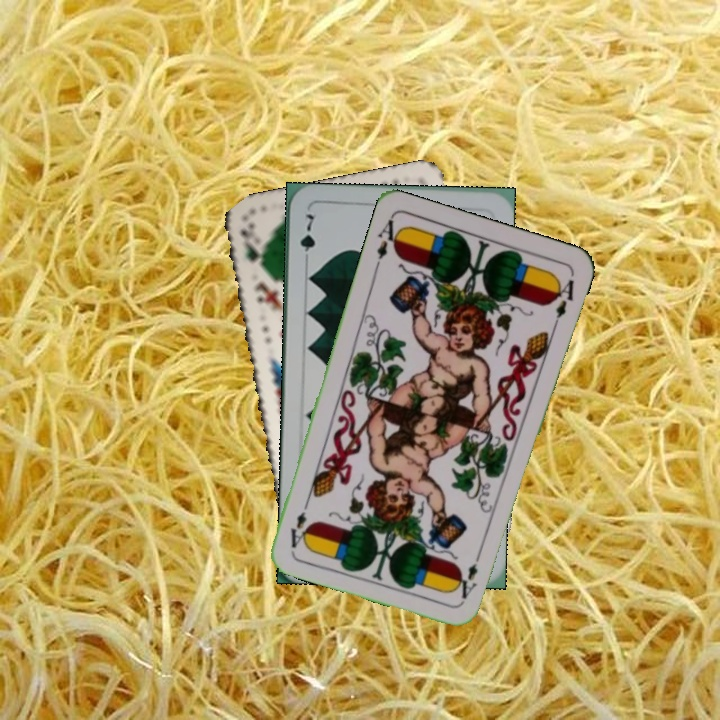EA: (371, 215, 405, 272), (457, 546, 484, 602)
G7: (296, 210, 318, 267)
GK: (236, 219, 265, 274)
